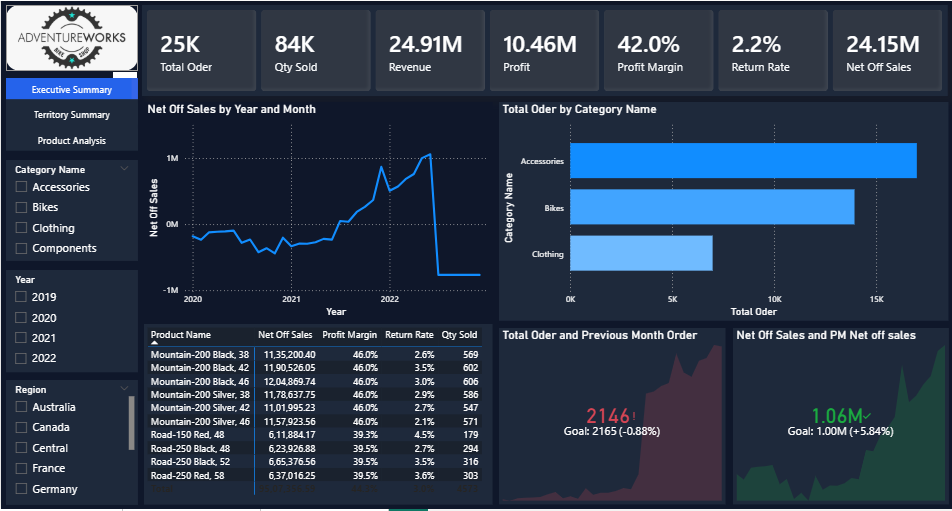

This screenshot's page, from the dashboard's own definition file:
{"tool":"powerbi","page":{"name":"Executive Summary","canvas":[1350,720],"ordinal":0},"visuals":[{"type":"image","box":[7.5,6,186.6,93.3],"z":0},{"type":"cardVisual","fields":{"Data":["FactsSales.Total Odr","FactsSales.Qty Sold","Measure.Rvnw","Measure.Profit","Measure.Profit Margir","Measure.Return Rate","Measure.Net Off Sales"]},"box":[200.2,6,1142.3,129.4],"z":1000},{"type":"lineChart","fields":{"Y":["Measure.Net Off Sales"],"Category":["DimDate.Start of the Month.Variation.Date Hierarchy.Year","DimDate.Start of the Month.Variation.Date Hierarchy.Month"]},"box":[203.2,143,493.6,310],"z":2000},{"type":"slicer","fields":{"Values":["DimCategories.Category Name"]},"box":[7.1,225.4,187.1,143.1],"z":3000},{"type":"clusteredBarChart","fields":{"Category":["DimCategories.Category Name"],"Y":["Measure.Total Oder"]},"box":[705.9,143,636.6,310],"z":4000},{"type":"pivotTable","fields":{"Rows":["DimProduct.Product Name"],"Values":["Measure.Net Off Sales","Measure.Profit Margin","Measure.Return Rate","Measure.Qty Sold"]},"box":[203.2,457.5,493.6,255.9],"z":5000},{"type":"slicer","fields":{"Values":["DimTerritory.Region"]},"box":[7.1,537.2,187.1,177.2],"z":6000},{"type":"slicer","fields":{"Values":["FactsSales.Stock Date.Variation.Date Hierarchy.Year"]},"box":[7.1,381.3,187.1,144.6],"z":7000},{"type":"kpi","title":"Total Oder and Previous Month Order","fields":{"Indicator":["Measure.Total Oder"],"TrendLine":["DimDate.Start of the Month"],"Goal":["Measure.Previous Month Order"]},"box":[705.9,463.5,320.6,249.8],"z":8000},{"type":"kpi","title":"Net Off Sales and PM Net off sales","fields":{"TrendLine":["DimDate.Start of the Month"],"Goal":["Measure.PM Net off sales"],"Indicator":["Measure.Net Off Sales"]},"box":[1037,463.5,305.5,249.8],"z":9000},{"type":"pageNavigator","box":[7.1,109.1,187.1,103.5],"z":10000}]}

Visuals, with their boxes in screenshot pixels (x1, y1, x2, y2), scaled from the page's 1350x720 canvas onto the 952x511 screenshot:
image: 5,4,137,70
cardVisual - FactsSales.Total Odr x FactsSales.Qty Sold: 141,4,947,96
lineChart - Measure.Net Off Sales x DimDate.Start of the Month.Variation.Date Hierarchy.Year: 143,101,491,322
slicer - DimCategories.Category Name: 5,160,137,262
clusteredBarChart - DimCategories.Category Name x Measure.Total Oder: 498,101,947,322
pivotTable - DimProduct.Product Name x Measure.Net Off Sales: 143,325,491,506
slicer - DimTerritory.Region: 5,381,137,507
slicer - FactsSales.Stock Date.Variation.Date Hierarchy.Year: 5,271,137,373
"Total Oder and Previous Month Order" kpi: 498,329,724,506
"Net Off Sales and PM Net off sales" kpi: 731,329,947,506
pageNavigator: 5,77,137,151
